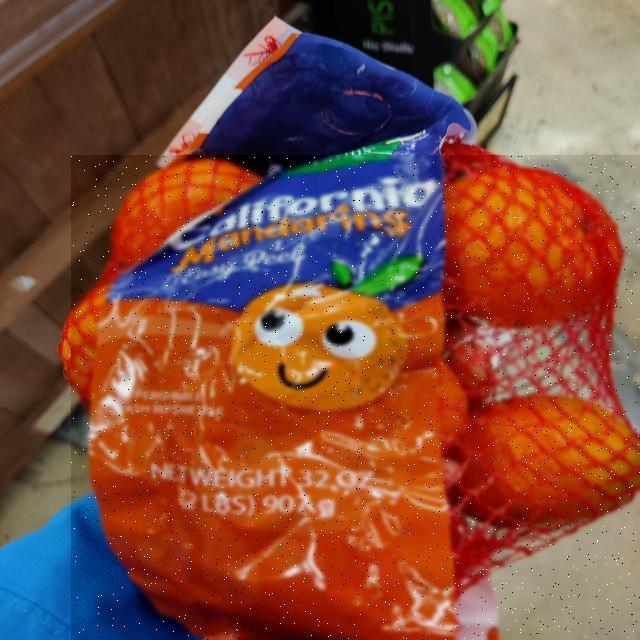Orange: (71, 155, 640, 640)
